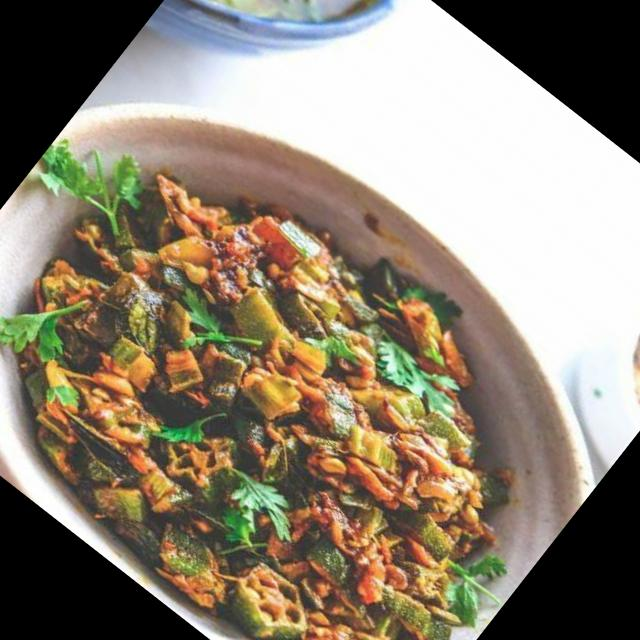BhindiMasala: (0, 93, 611, 640)
